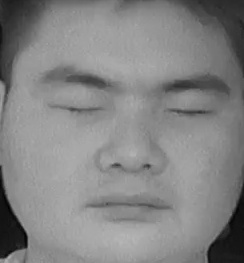blink: (53, 91, 107, 127), (169, 96, 215, 130)
mouth: (86, 184, 176, 235)
